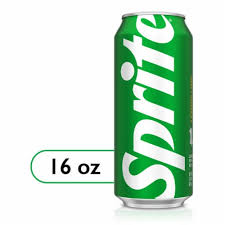can: (114, 14, 193, 209)
